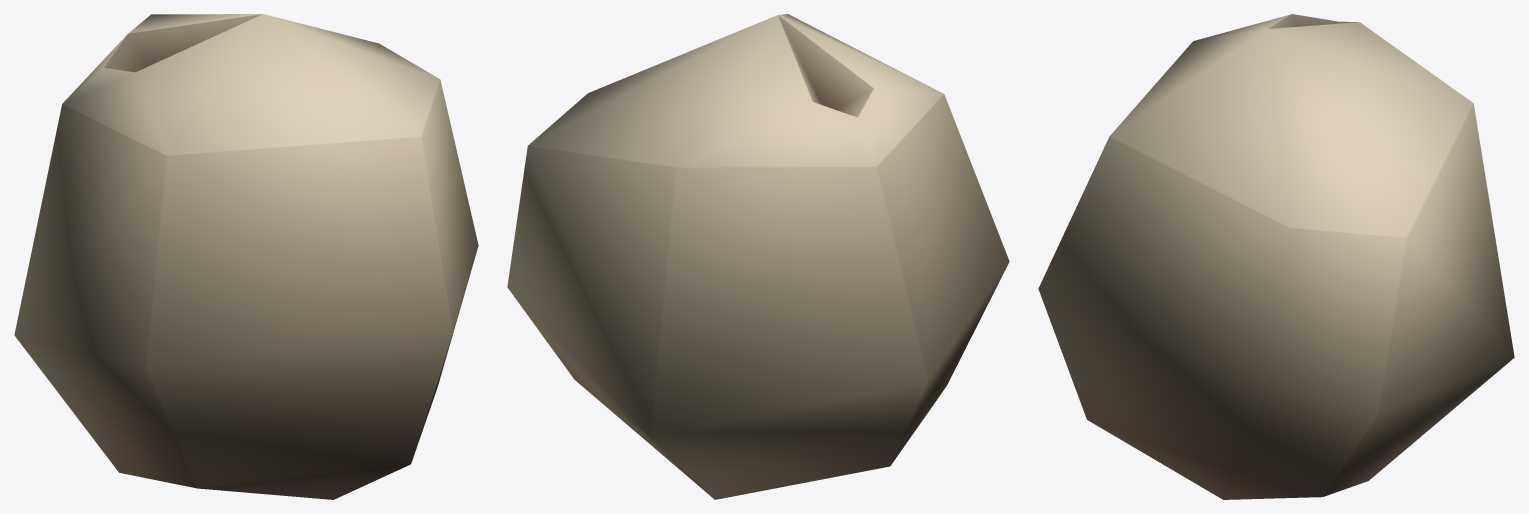
Rendered from Rock_Small_1F.fbx.
The picture shows the model from 3 angles, left to right: view 1: azimuth 30°, elevation 25°; view 2: azimuth 150°, elevation 25°; view 3: azimuth 270°, elevation 25°; orthographic projection. The views are drawn at different scales.
Parts seen in each view (by area): view 1: Rock_Small_1F; view 2: Rock_Small_1F; view 3: Rock_Small_1F.
Boxes of the visible parts, left/top/right/bottom form: Rock_Small_1F: left=14, top=14, right=478, bottom=499; Rock_Small_1F: left=507, top=14, right=1009, bottom=499; Rock_Small_1F: left=1038, top=14, right=1514, bottom=499.
Size of the model in its own units: 68.79 by 73.23 by 70.29.
